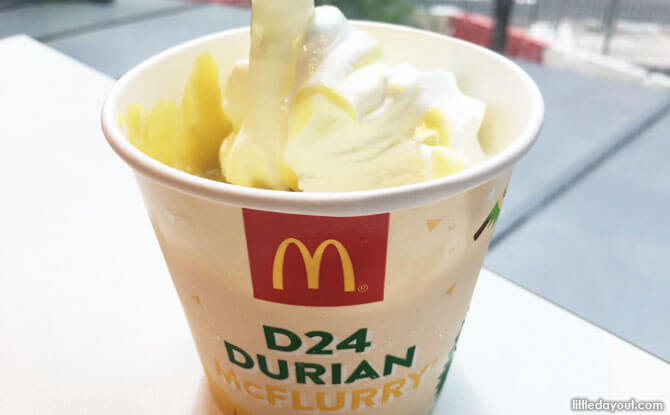mcdonalds: (265, 231, 359, 297)
